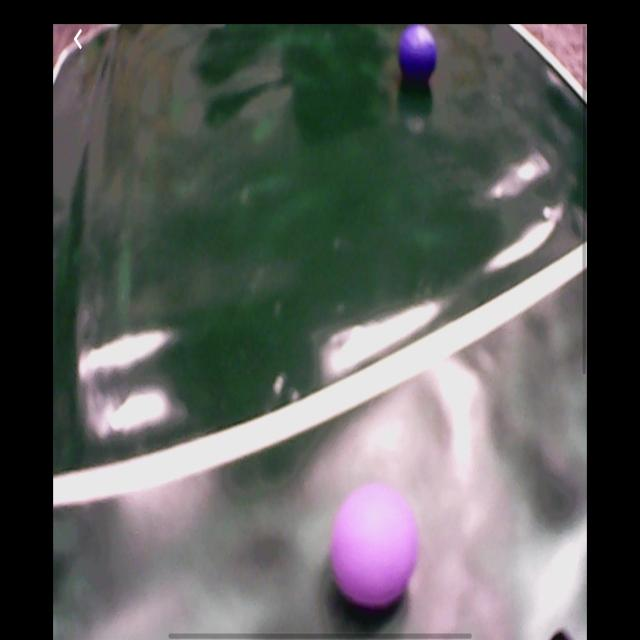ball: (333, 483, 421, 612), (399, 27, 438, 81)
